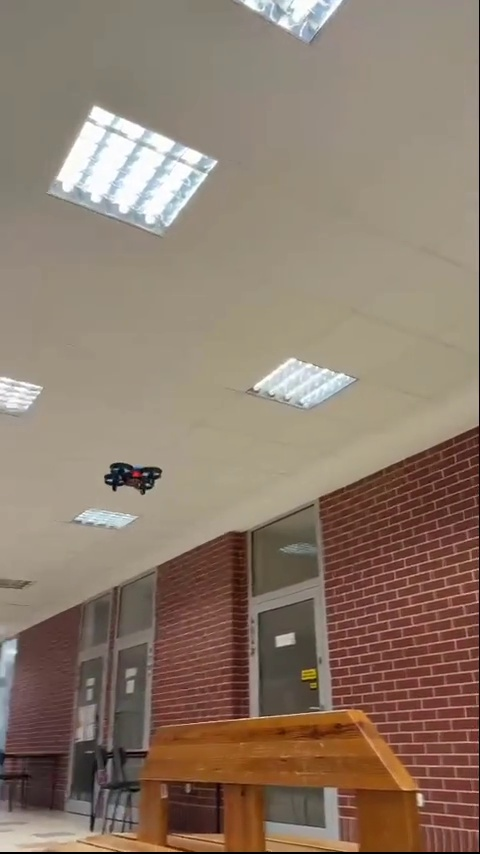drone: (99, 458, 162, 492)
